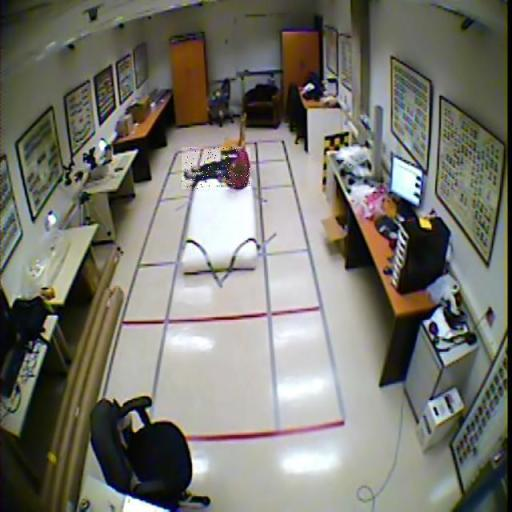Fall: (182, 147, 251, 189)
